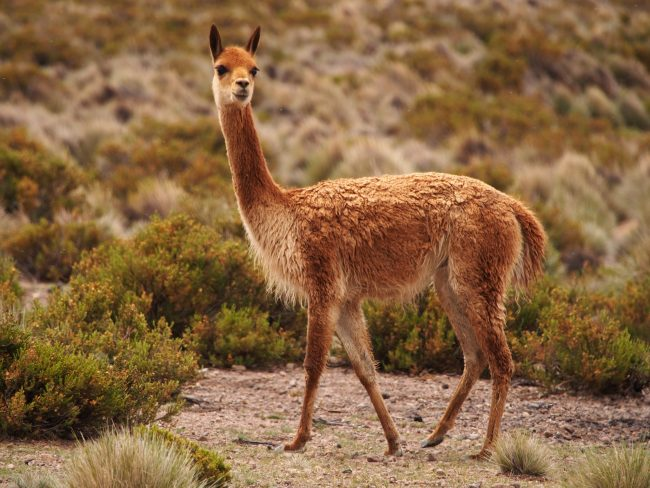eye: (216, 65, 229, 78), (250, 65, 261, 80)
mouth: (232, 87, 257, 105)
